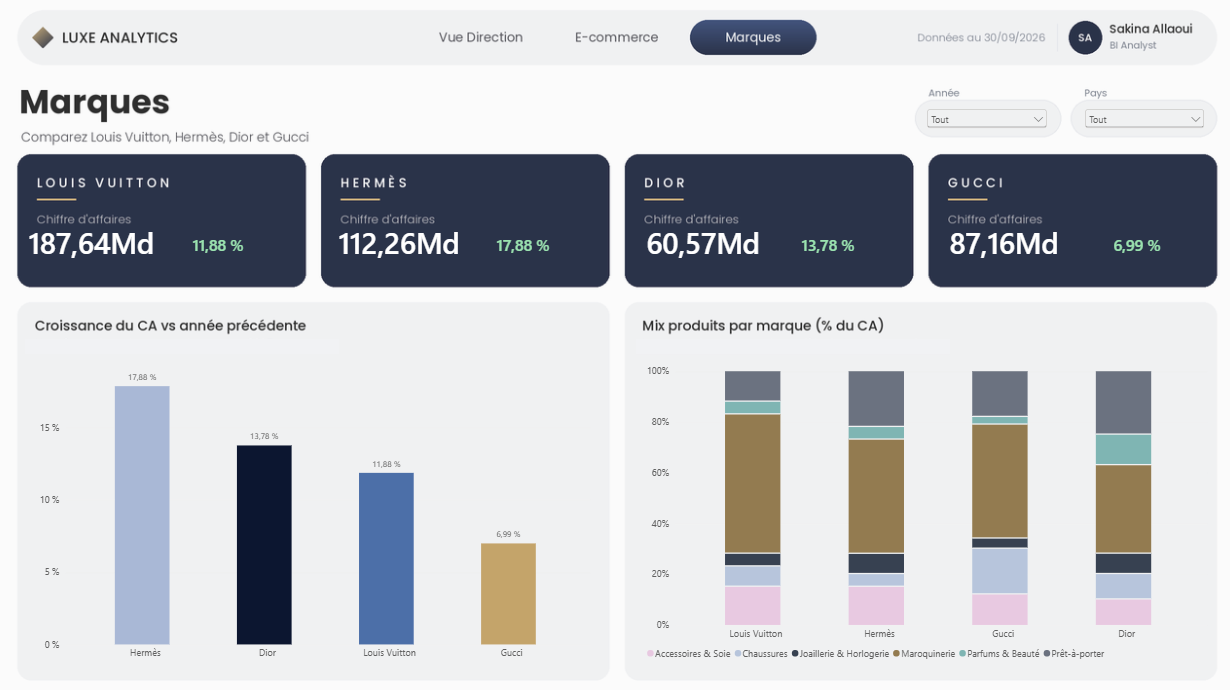

The dashboard page shown, as its layout file describes it:
{"tool":"powerbi","page":{"name":"Marques","canvas":[1920,1080],"ordinal":2},"visuals":[{"type":"slicer","fields":{"Values":["dim_date.annee"]},"box":[1432.5,167.5,194.4,113.3],"z":4000},{"type":"slicer","fields":{"Values":["dim_pays.pays_nom"]},"box":[1676.7,168.3,193.3,210],"z":6000},{"type":"columnChart","title":"Croissance du CA vs année précédente","fields":{"Category":["dim_marque.marque_nom"],"Y":["fact_ventes.Croissance %"]},"box":[54,552,882,490],"z":8000},{"type":"hundredPercentStackedColumnChart","title":"Mix produits par marque (% du CA)","fields":{"Category":["dim_marque.marque_nom"],"Series":["dim_categorie.categorie_nom"],"Y":["fact_ventes.CA"]},"box":[990,552,896,490],"z":9000},{"type":"cardVisual","fields":{"Data":["fact_ventes.CA Louis Vuitton"]},"box":[37.5,317.5,306,122],"z":9001},{"type":"cardVisual","fields":{"Data":["dim_canal.CA Hermès"]},"box":[515,317.5,306,122],"z":9002},{"type":"cardVisual","fields":{"Data":["dim_canal.CA Dior"]},"box":[990,317.5,306,122],"z":9003},{"type":"cardVisual","fields":{"Data":["dim_canal.CA Gucci"]},"box":[1456.7,316.7,306,122],"z":9004},{"type":"cardVisual","fields":{"Data":["fact_ventes.Croissance Louis Vuitton"]},"box":[290,322.5,177.5,117.5],"z":9005},{"type":"cardVisual","fields":{"Data":["fact_ventes.Croissance Hermès"]},"box":[758.8,322.5,177.5,117.5],"z":9006},{"type":"cardVisual","fields":{"Data":["fact_ventes.Croissance Dior"]},"box":[1227.5,322.5,177.5,117.5],"z":9007},{"type":"cardVisual","fields":{"Data":["fact_ventes.Croissance Gucci"]},"box":[1708.8,322.5,177.5,117.5],"z":9008},{"type":"actionButton","box":[876.2,41.2,167.5,42.5],"z":9009},{"type":"actionButton","box":[667.5,41.2,153.8,42.5],"z":9010},{"type":"shape","box":[988.8,527.5,483.8,23.8],"z":9011},{"type":"shape","box":[47.5,527.5,483.8,23.8],"z":9012}]}

Visuals, with their boxes in screenshot pixels (x1, y1, x2, y2), scaled from the page's 1920x1080 canvas onto the 1230x690 screenshot:
slicer - dim_date.annee: 918,107,1042,179
slicer - dim_pays.pays_nom: 1074,108,1198,242
"Croissance du CA vs année précédente" columnChart: 35,353,600,666
"Mix produits par marque (% du CA)" hundredPercentStackedColumnChart: 634,353,1208,666
cardVisual - fact_ventes.CA Louis Vuitton: 24,203,220,281
cardVisual - dim_canal.CA Hermès: 330,203,526,281
cardVisual - dim_canal.CA Dior: 634,203,830,281
cardVisual - dim_canal.CA Gucci: 933,202,1129,280
cardVisual - fact_ventes.Croissance Louis Vuitton: 186,206,299,281
cardVisual - fact_ventes.Croissance Hermès: 486,206,600,281
cardVisual - fact_ventes.Croissance Dior: 786,206,900,281
cardVisual - fact_ventes.Croissance Gucci: 1095,206,1208,281
actionButton: 561,26,669,53
actionButton: 428,26,526,53
shape: 633,337,943,352
shape: 30,337,340,352
